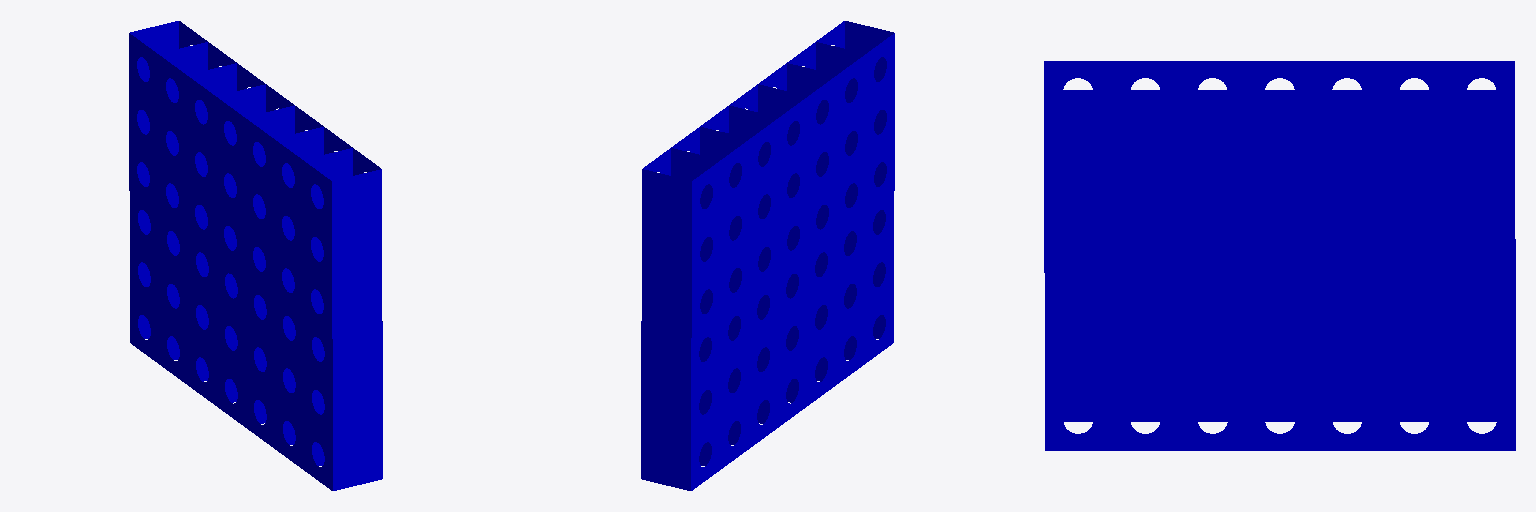
robot.urdf — bloc_cubes:
<?xml version="1.0"?>
<robot name="bloc_cubes">
  <link name="bloc_link">
    <visual>
      <geometry>
        <mesh filename="package://my_game/meshes/cube1.dae" scale="1 1 1"/>
      </geometry>
      <material name="blue">
        <color rgba="0 0 1 1"/>
      </material>
    </visual>

    <collision>
      <geometry>
        <mesh filename="package://my_game/meshes/cube1.dae" scale="1 1 1"/>
      </geometry>
    </collision>
    
    <inertial>
      <mass value="0.1"/>
      <inertia
        ixx="0.0002" ixy="0.0"  ixz="0.0"
        iyy="0.0002" iyz="0.0" izz="0.0002"/>
    </inertial>
  </link>

  <gazebo>
    <static>true</static>
  </gazebo> 
</robot>

--- Render facts (derived) ---
The picture shows the robot from 3 angles, left to right: view 1: azimuth 30°, elevation 25°; view 2: azimuth 150°, elevation 25°; view 3: azimuth 270°, elevation 25°; orthographic projection.
Model bloc_cubes with 1 links and 0 joints (none), rooted at bloc_link, posed every joint at zero.
Visible links, largest first — view 1: bloc_link; view 2: bloc_link; view 3: bloc_link.
Link boxes in pixels (<box>): bloc_link: <box>129,21,382,490</box>; bloc_link: <box>641,21,894,490</box>; bloc_link: <box>1044,61,1515,450</box>.
Bounding box of the posed robot: 0.0917 × 0.6303 × 0.5323 m (x, y, z).
1 mesh visuals loaded from 1 distinct referenced files (1 Collada DAE).